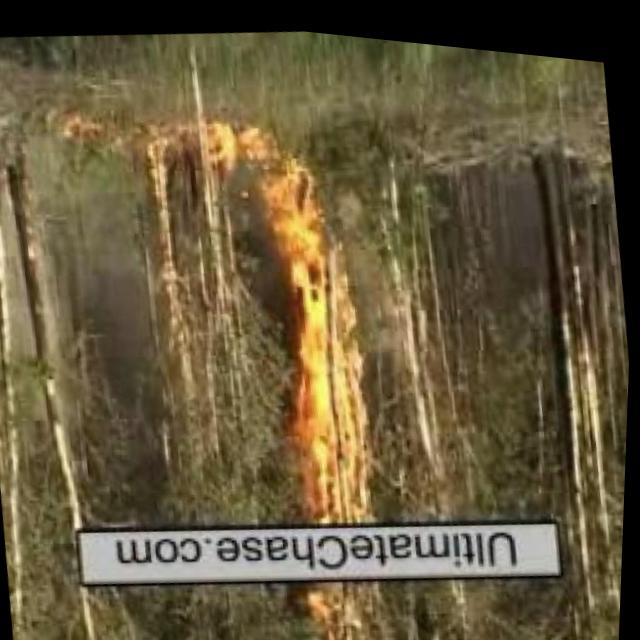Fire: (276, 225, 381, 516), (181, 87, 327, 230), (309, 572, 364, 640)
